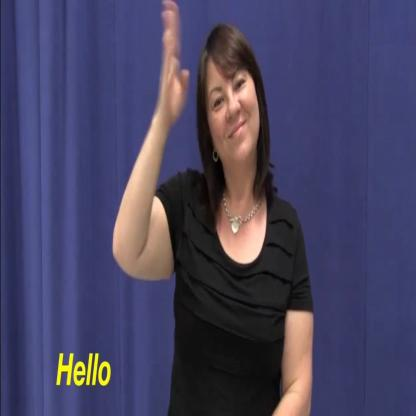Hello: (112, 0, 319, 416)
